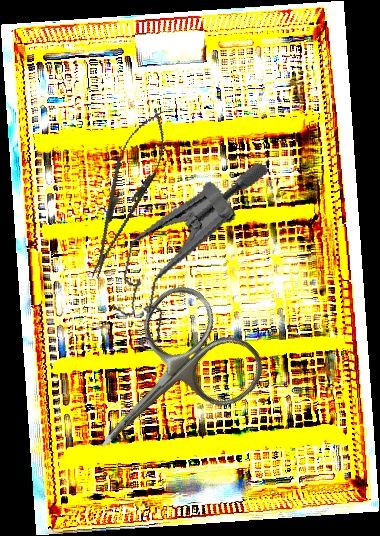Iris Scissors: (54, 274, 275, 493)
Needle Holder: (73, 101, 179, 287)
Speculum: (104, 138, 271, 367)
